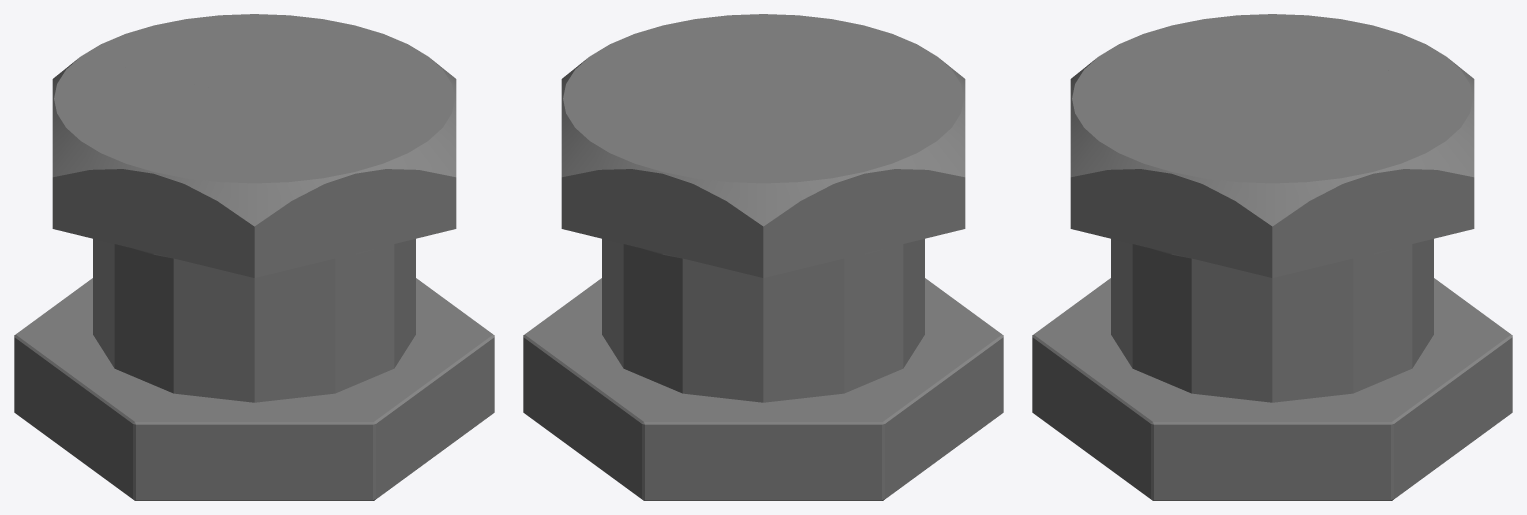
Rendered from FourHighConnector.fbx.
The picture shows the model from 3 angles, left to right: view 1: azimuth 30°, elevation 25°; view 2: azimuth 150°, elevation 25°; view 3: azimuth 270°, elevation 25°; orthographic projection.
Visible parts, largest first — view 1: 4HighConnection; view 2: 4HighConnection; view 3: 4HighConnection.
Part boxes in pixels (left/top/right/bottom): 4HighConnection: left=14, top=14, right=494, bottom=500; 4HighConnection: left=523, top=14, right=1003, bottom=500; 4HighConnection: left=1032, top=14, right=1512, bottom=500.
Size of the model in its own units: 2.12 by 1.58 by 2.19.
